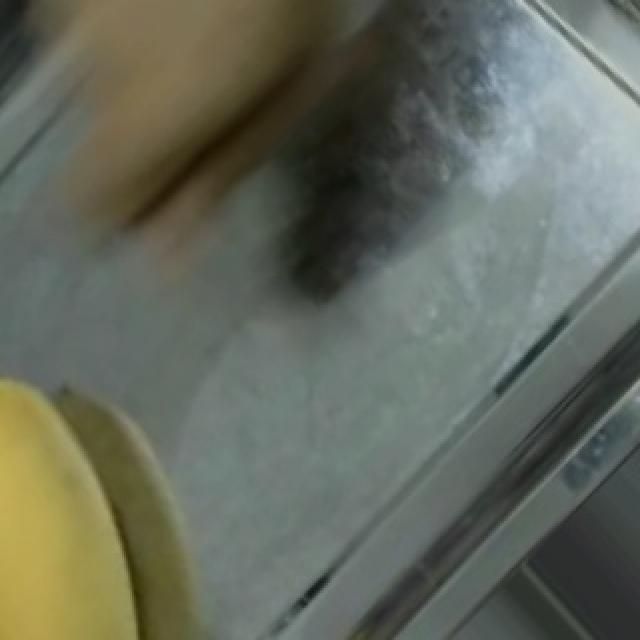fruit: (0, 0, 358, 260), (0, 352, 228, 640)
